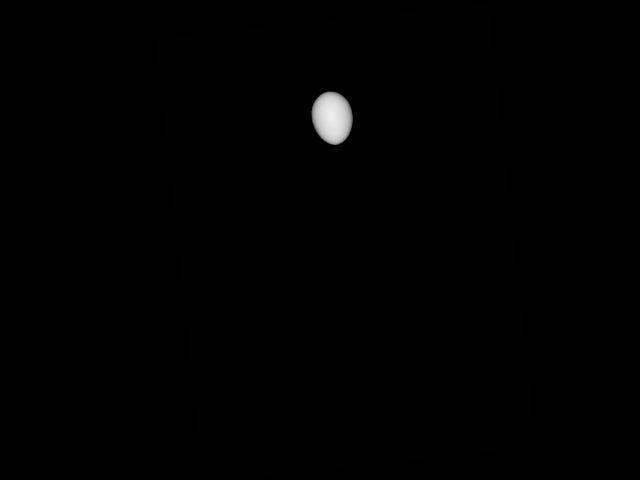egg: (309, 89, 356, 146)
